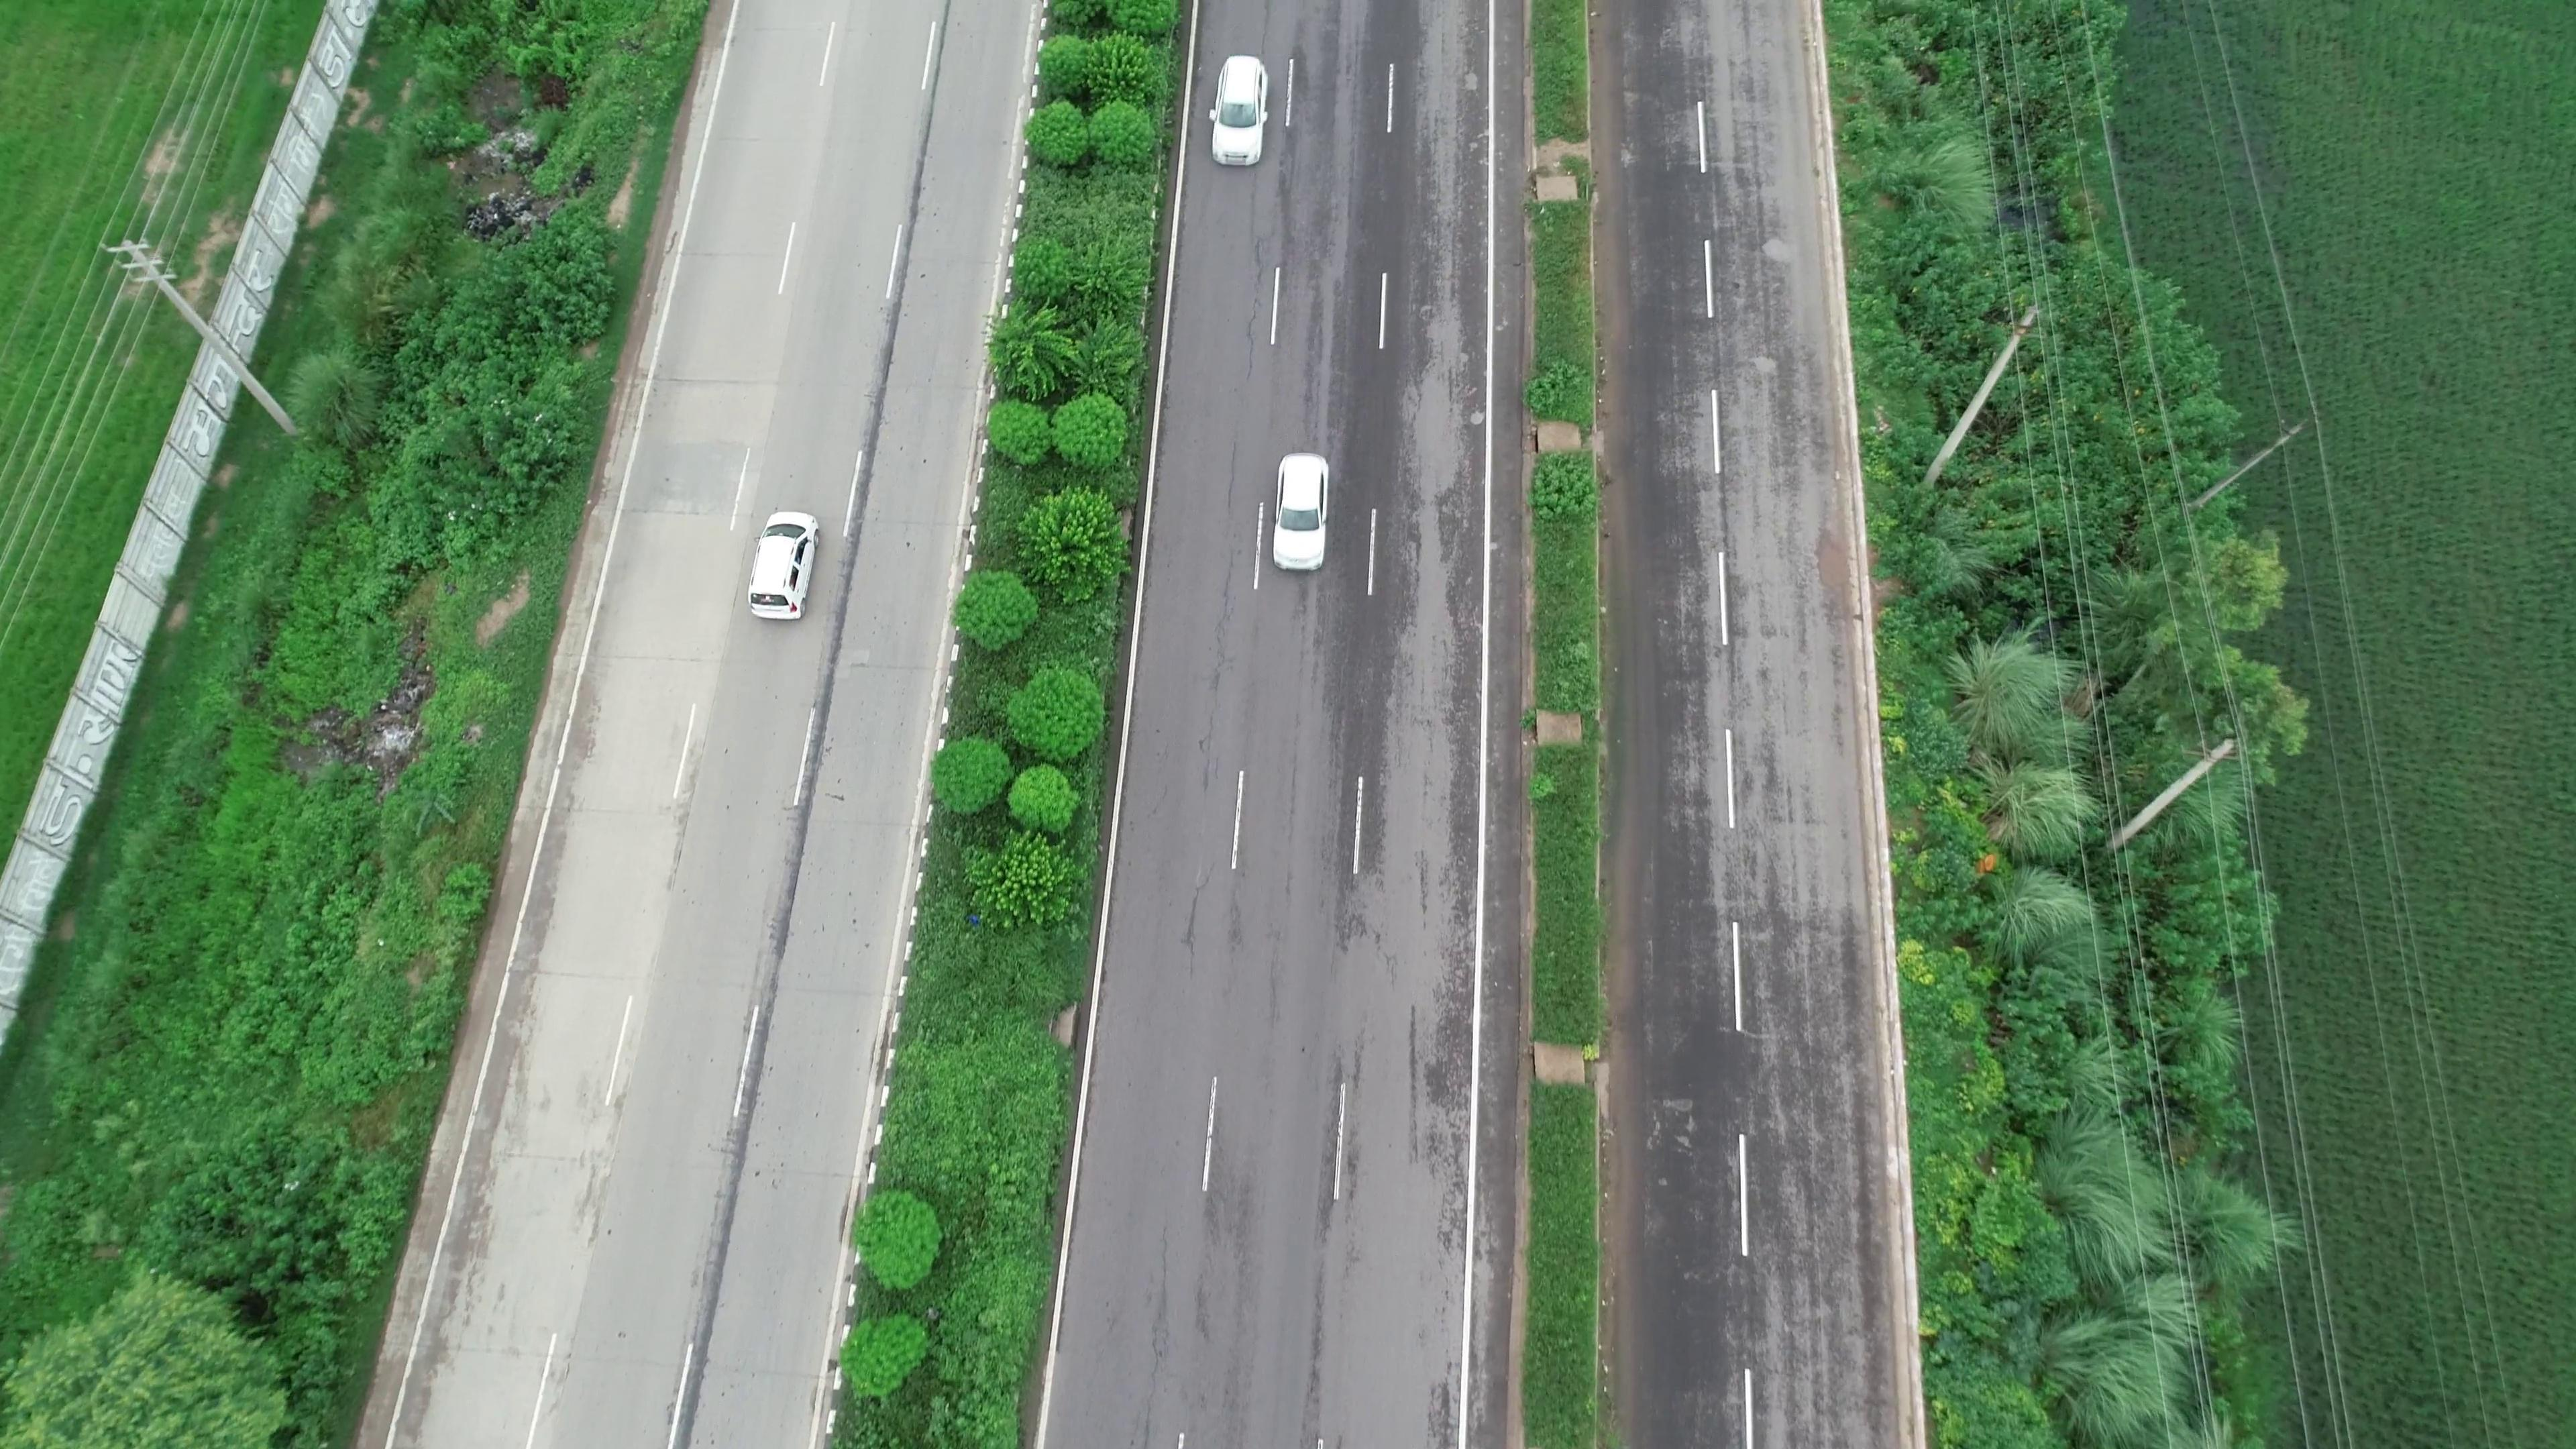Longitudinal_cracks: (1185, 494, 1254, 773)
